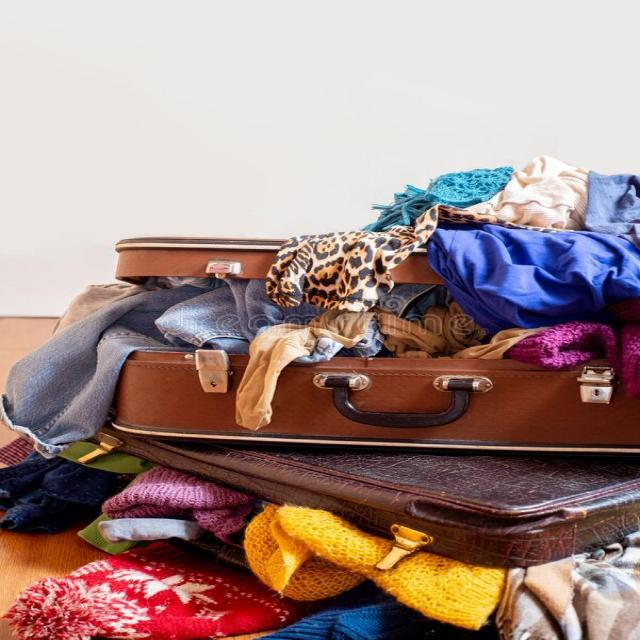clothes: (71, 125, 619, 629)
